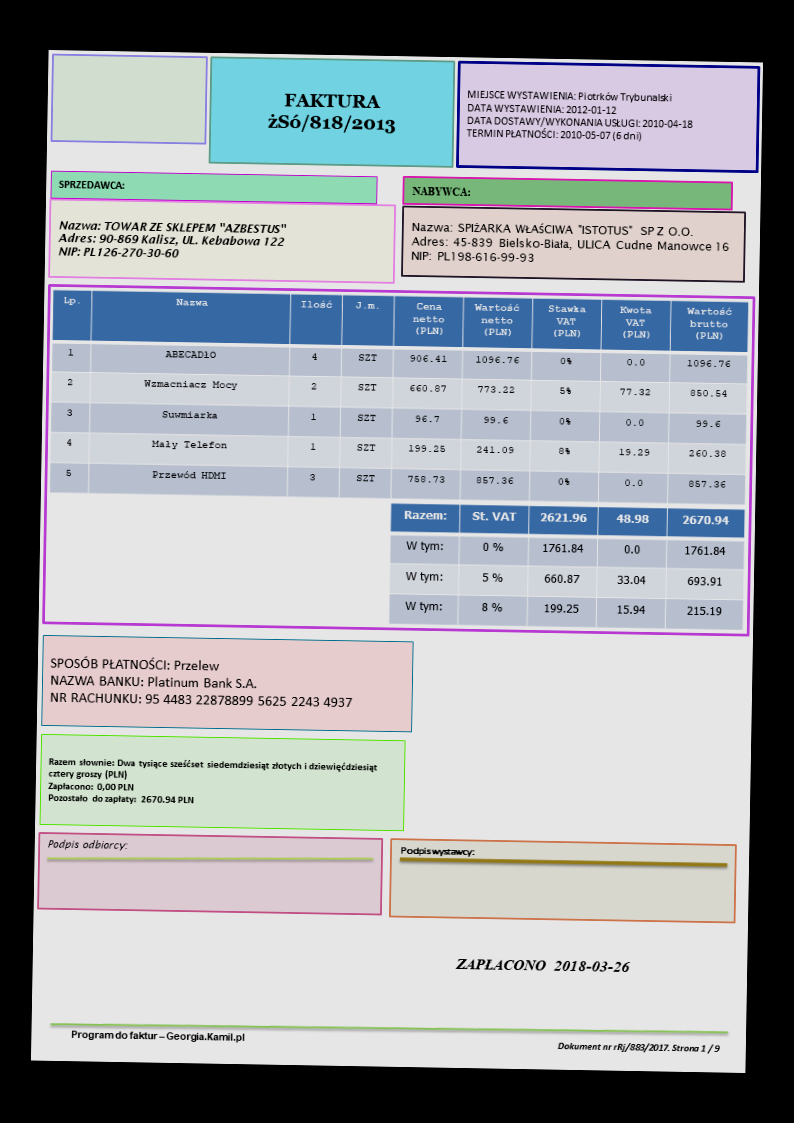Table: (48, 289, 750, 506), (387, 502, 745, 630)
TextBox: (48, 652, 356, 712), (45, 756, 379, 809), (408, 220, 731, 269), (464, 85, 695, 145), (56, 218, 287, 262), (264, 90, 399, 136), (452, 954, 632, 976), (69, 1026, 247, 1044), (556, 1039, 722, 1057), (44, 837, 130, 854), (55, 177, 126, 193), (398, 845, 475, 859), (410, 184, 472, 200)
